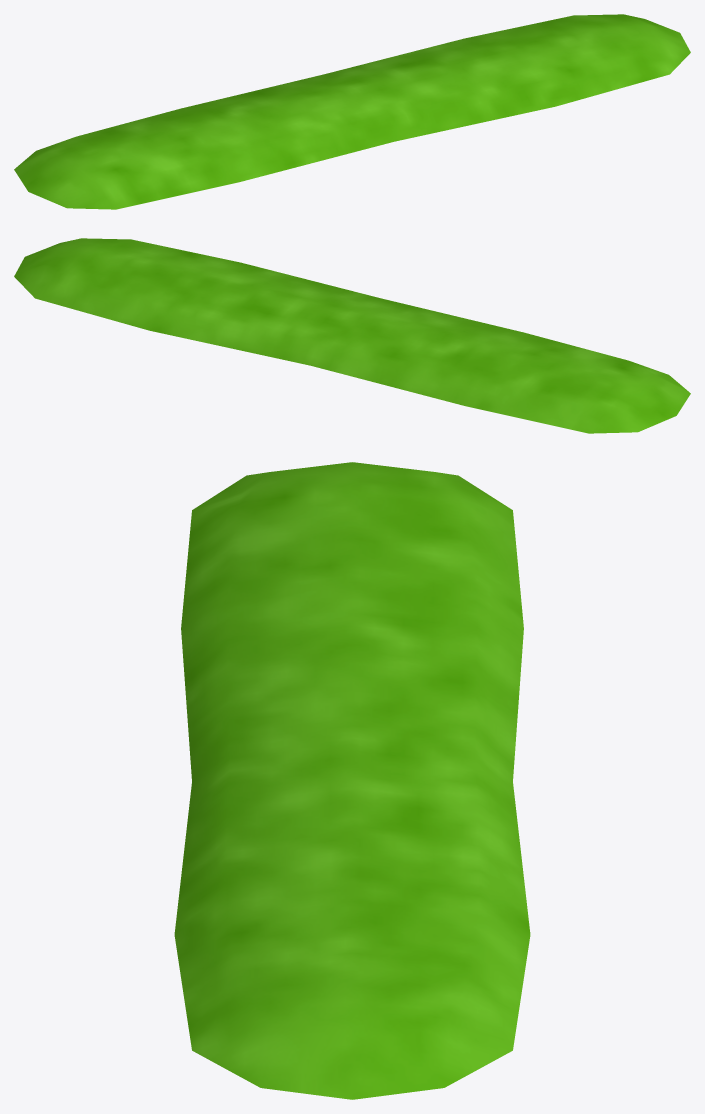
The model's file is SM_corrosif.FBX.
3 renders of one model, top to bottom at view 1: azimuth 30°, elevation 25°; view 2: azimuth 150°, elevation 25°; view 3: azimuth 270°, elevation 25°, orthographic. The views are drawn at different scales.
Visible parts, largest first — view 1: corrosif; view 2: corrosif; view 3: corrosif.
Part boxes in pixels (<box>): corrosif: <box>14,14,690,209</box>; corrosif: <box>14,238,690,433</box>; corrosif: <box>174,462,530,1099</box>.
Bounding box in the file's own units: 912 × 30.36 × 216.
